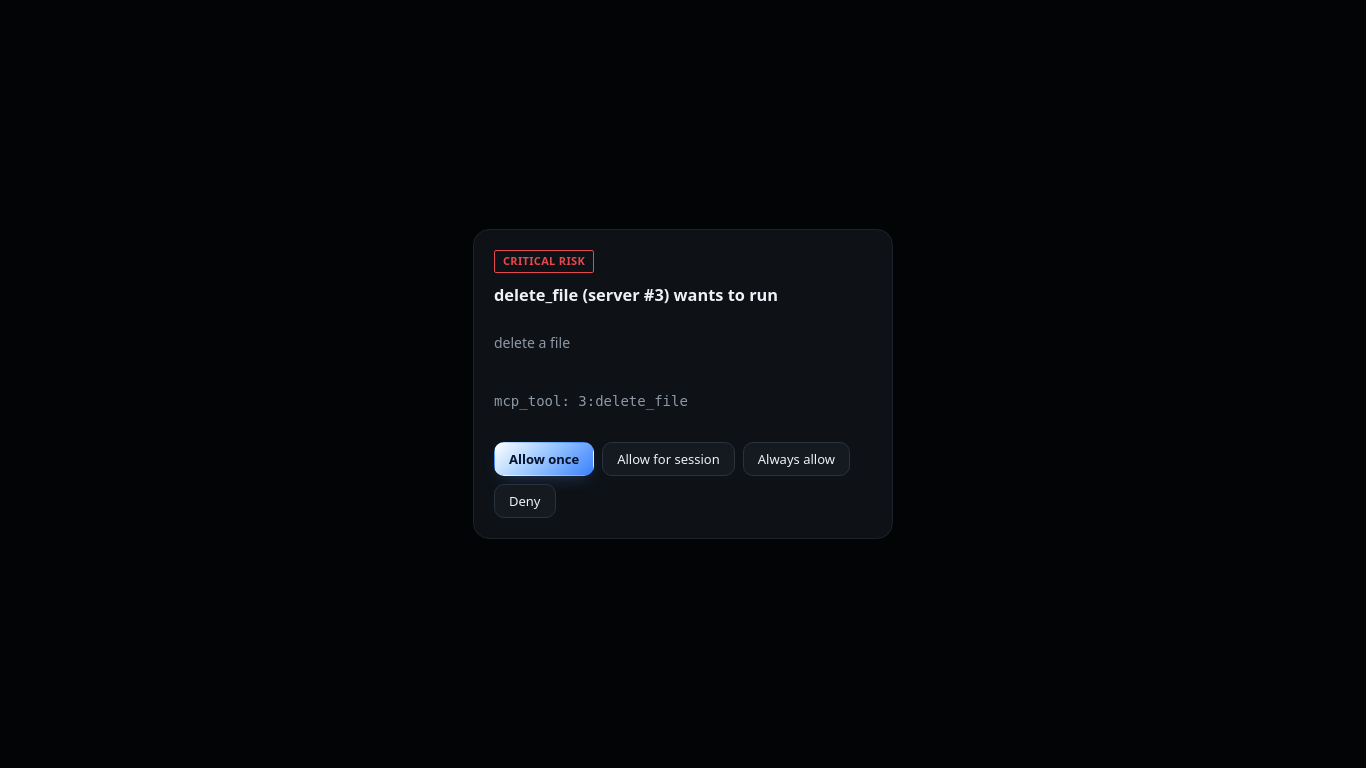
Test: PermissionPrompt › a resolve failure keeps the modal open and shows the error
Click the button "Deny".
click(525, 500)  # box x1=494 y1=484 x2=556 y2=518
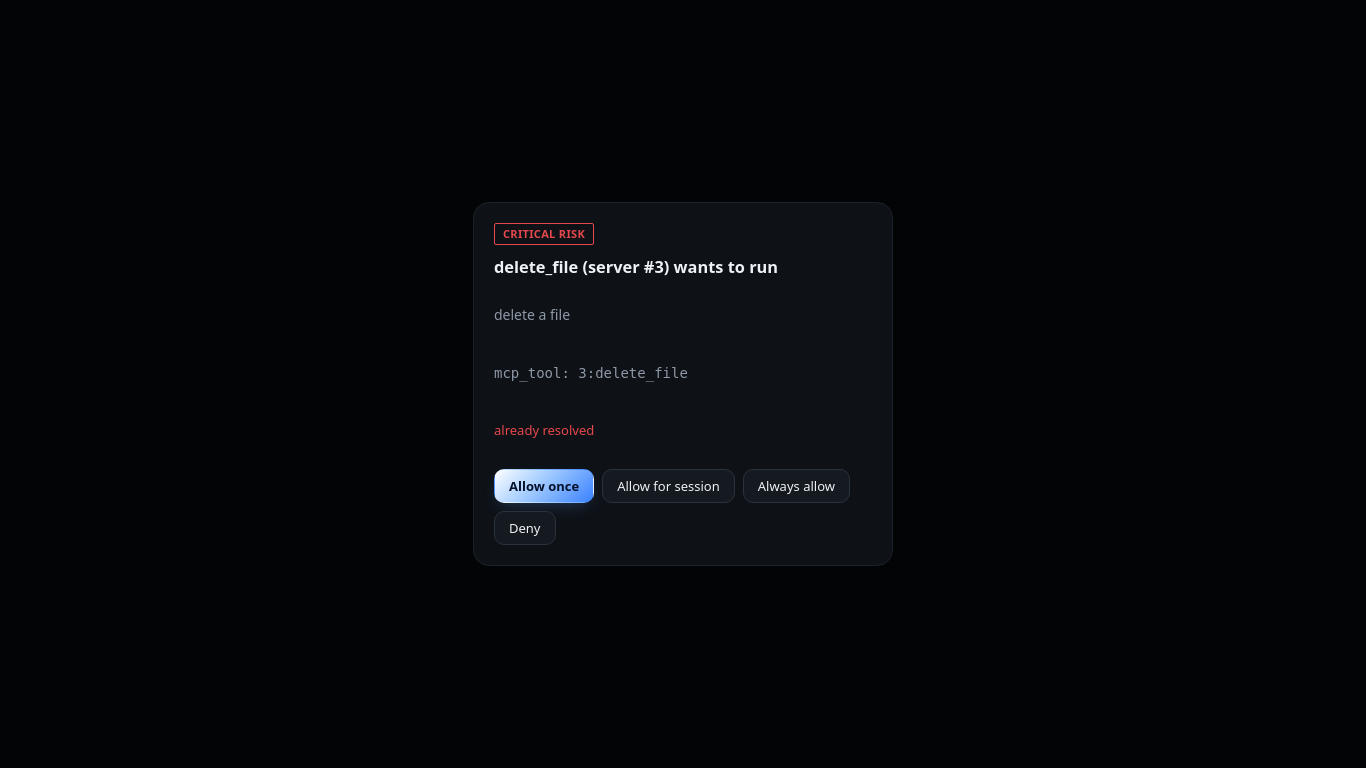
expect the message reads "already resolved": met, box x1=494 y1=421 x2=594 y2=439
